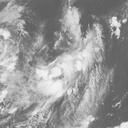cyclone: (37, 29, 104, 85)
